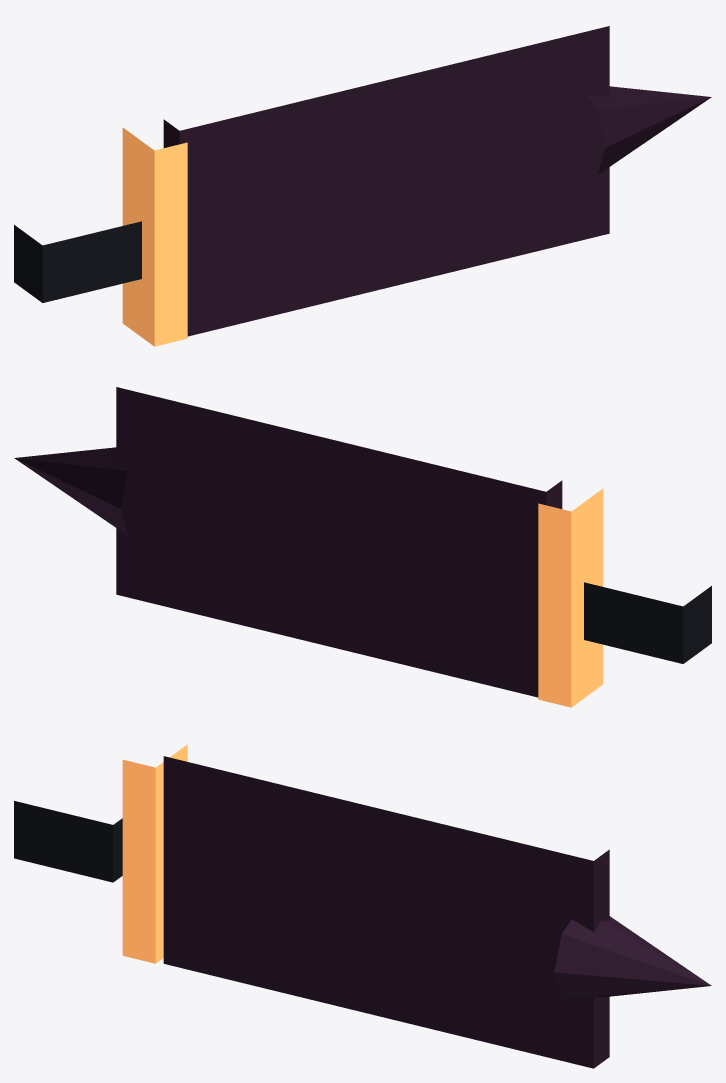
Rendered from underlord.glb.
The picture shows the model from 3 angles, top to bottom: view 1: azimuth 30°, elevation 25°; view 2: azimuth 150°, elevation 25°; view 3: azimuth 330°, elevation 25°; orthographic projection.
Visible parts, largest first — view 1: underlord-blade, underlord-guard, underlord-grip, underlord-tip; view 2: underlord-blade, underlord-guard, underlord-grip, underlord-tip; view 3: underlord-blade, underlord-guard, underlord-tip, underlord-grip.
Boxes of the visible parts, x1,y1,x2,y2 form: underlord-blade: [163, 26, 609, 336]; underlord-guard: [122, 127, 187, 346]; underlord-grip: [14, 221, 141, 302]; underlord-tip: [588, 86, 711, 174]; underlord-blade: [116, 387, 562, 697]; underlord-guard: [538, 488, 603, 707]; underlord-grip: [584, 582, 711, 663]; underlord-tip: [14, 447, 137, 535]; underlord-blade: [163, 756, 609, 1068]; underlord-guard: [122, 744, 187, 963]; underlord-tip: [554, 916, 711, 999]; underlord-grip: [14, 801, 122, 882].
Size of the model in its own units: 1.24 by 0.36 by 0.16.
